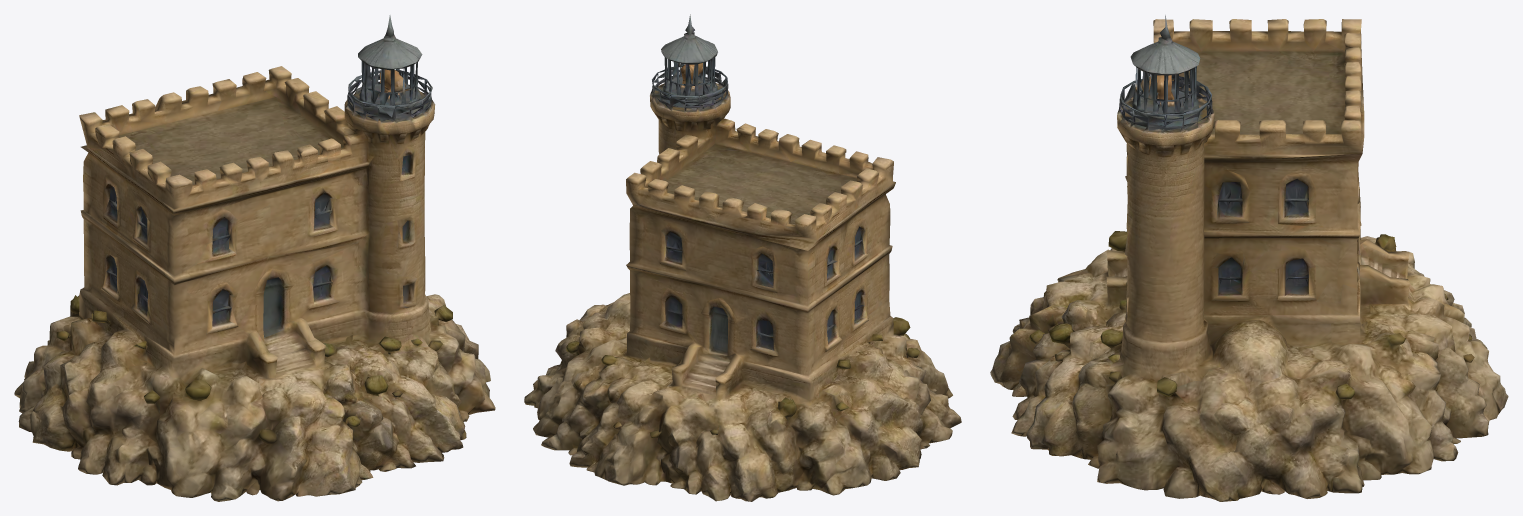
File: diablo-summit.glb
3 views of the same model, side by side, from view 1: azimuth 30°, elevation 25°; view 2: azimuth 150°, elevation 25°; view 3: azimuth 270°, elevation 25° (orthographic). The views are drawn at different scales.
Parts seen in each view (by area): view 1: tripo_node_71e3c582-63b8-4dc3-90a2-fa3d20f18705; view 2: tripo_node_71e3c582-63b8-4dc3-90a2-fa3d20f18705; view 3: tripo_node_71e3c582-63b8-4dc3-90a2-fa3d20f18705.
Boxes of the visible parts, <box> form: tripo_node_71e3c582-63b8-4dc3-90a2-fa3d20f18705: <box>14,15,495,501</box>; tripo_node_71e3c582-63b8-4dc3-90a2-fa3d20f18705: <box>524,14,961,501</box>; tripo_node_71e3c582-63b8-4dc3-90a2-fa3d20f18705: <box>990,15,1508,501</box>.
Size of the model in its own units: 1 by 0.8954 by 0.9806.
Materials: 1 (1 with a texture image).
